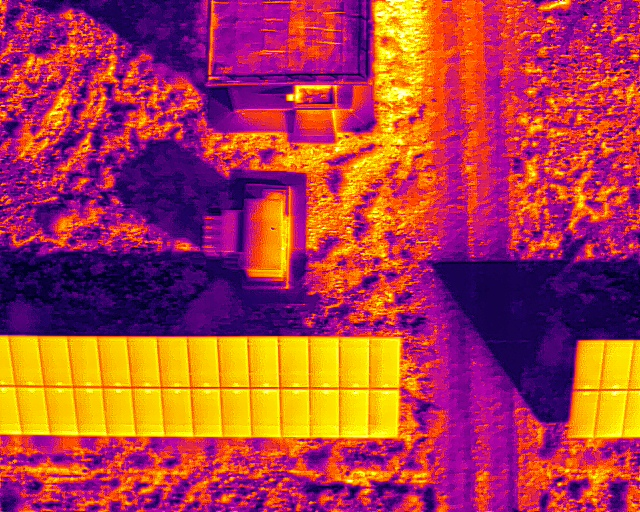photovoltaic_panels: (0, 337, 402, 441), (568, 337, 640, 441)
